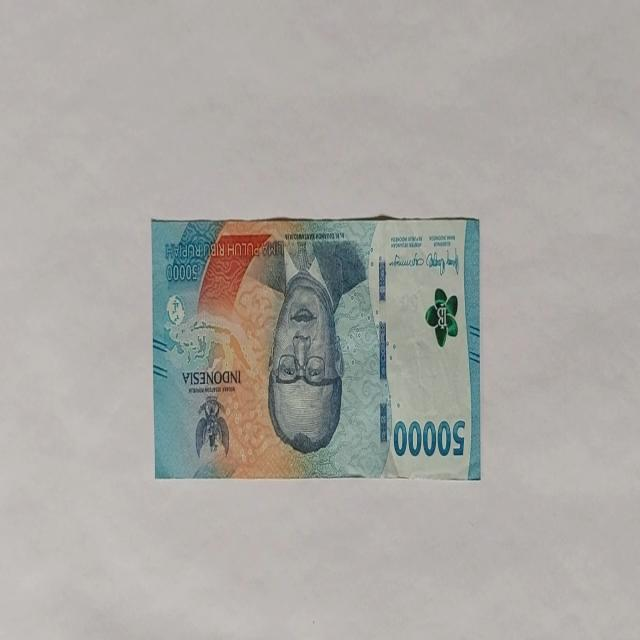lima puluh ribu rupiah: (150, 214, 482, 481)
